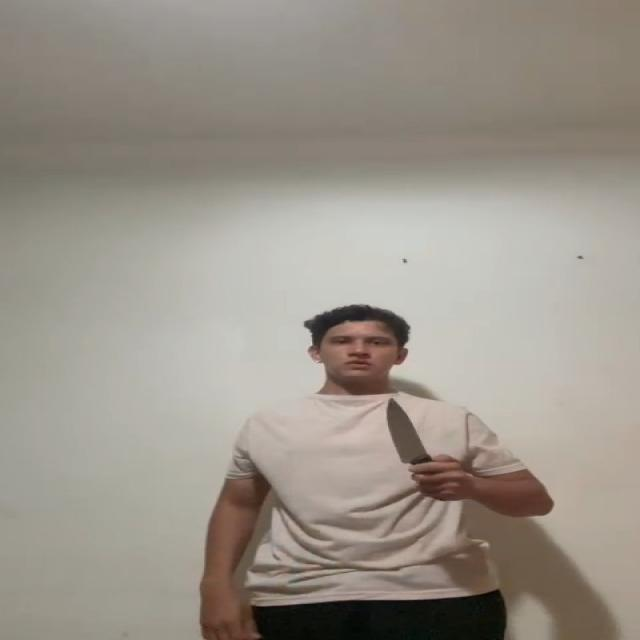knife: (380, 398, 429, 461)
